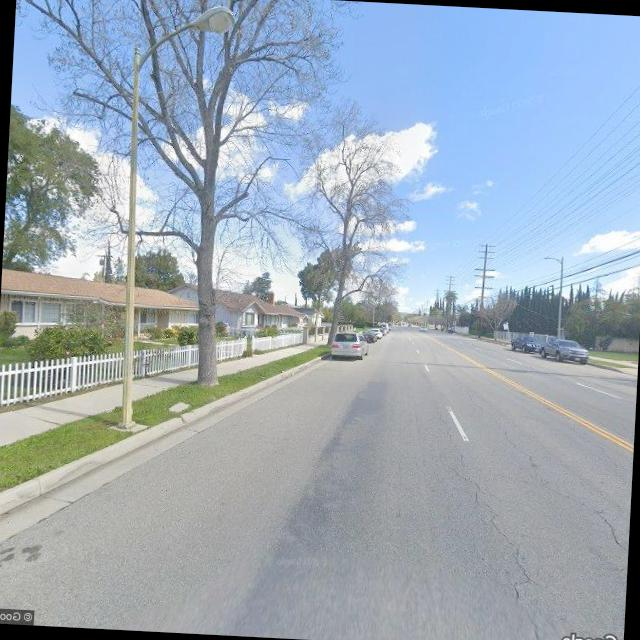crack: (428, 410, 556, 640), (487, 408, 632, 548)
